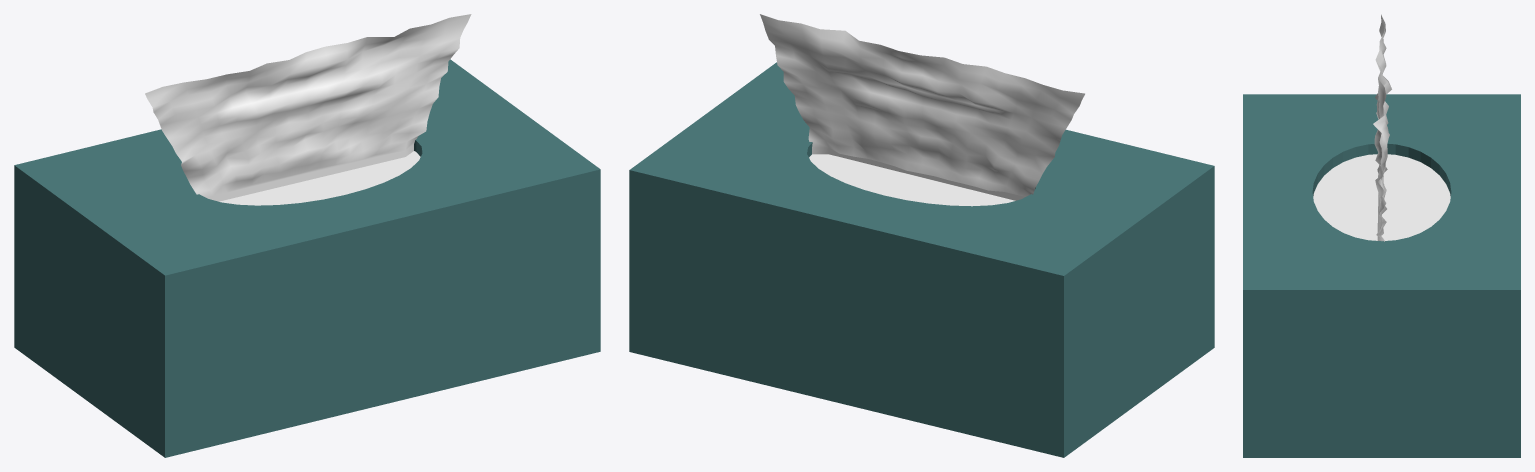
The model's file is tissuedoos.glb.
3 views of the same model, side by side, from view 1: azimuth 30°, elevation 25°; view 2: azimuth 150°, elevation 25°; view 3: azimuth 270°, elevation 25° (orthographic). The views are drawn at different scales.
Visible parts, largest first — view 1: Cube, Plane, Plane.001; view 2: Cube, Plane, Plane.001; view 3: Cube, Plane.001, Plane.
Boxes of the visible parts, <box> form: Cube: <box>14,59,600,457</box>; Plane: <box>145,14,471,201</box>; Plane.001: <box>219,151,420,205</box>; Cube: <box>629,62,1214,457</box>; Plane: <box>760,14,1084,200</box>; Plane.001: <box>809,154,1015,206</box>; Cube: <box>1243,94,1520,457</box>; Plane.001: <box>1313,154,1450,240</box>; Plane: <box>1373,14,1391,241</box>.
Bounding box in the file's own units: 0.2 × 0.13 × 0.12.
